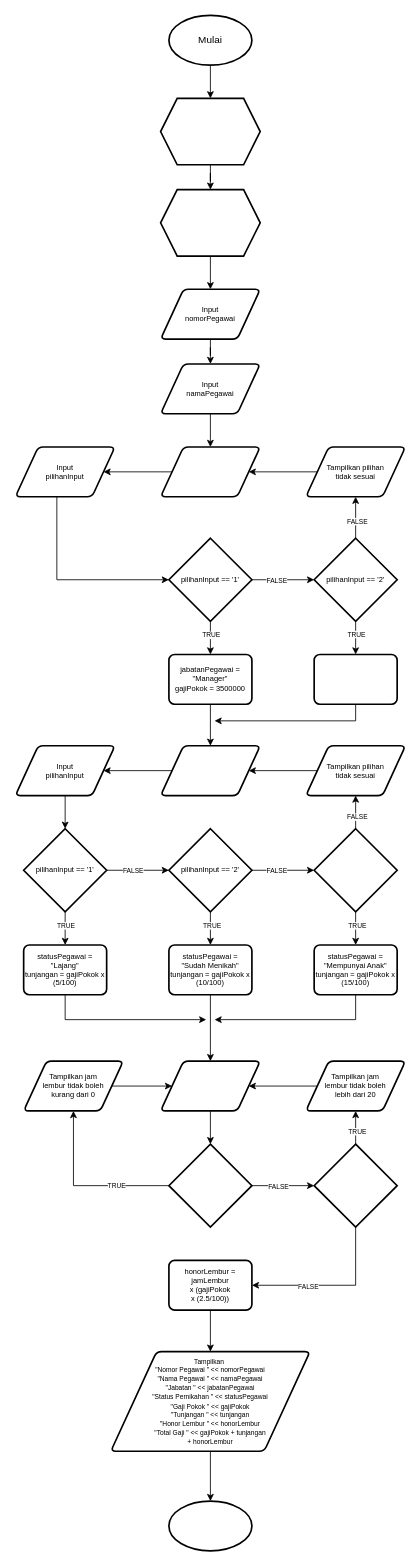
Image size: 420x1565. Some labels were removed from this diagram. Each missing label, with the centre of its shape:
Input jamLembur: [210,1085]
jabatanPegawai = "Operator" gajiPokok = 2000000: [355,679]
jamLembur < 0: [210,1185]
jamLembur > 20: [355,1185]
pilihanInput == '3': [355,870]
Selesai: [210,1525]
short jamLembur long gajiPokok, tunjangan, honorLembur char pilihanInput: [210,222]
string nomorPegawai, namaPegawai, jabatanPegawai, statusPegawai: [210,131]
Tampilkan pilihan jabatan 1. Manager 2. Operator: [210,471]
Tampilkan pilihan status 1. Lajang 2. Sudah Menikah 3. Mempunyai Anak: [210,770]
